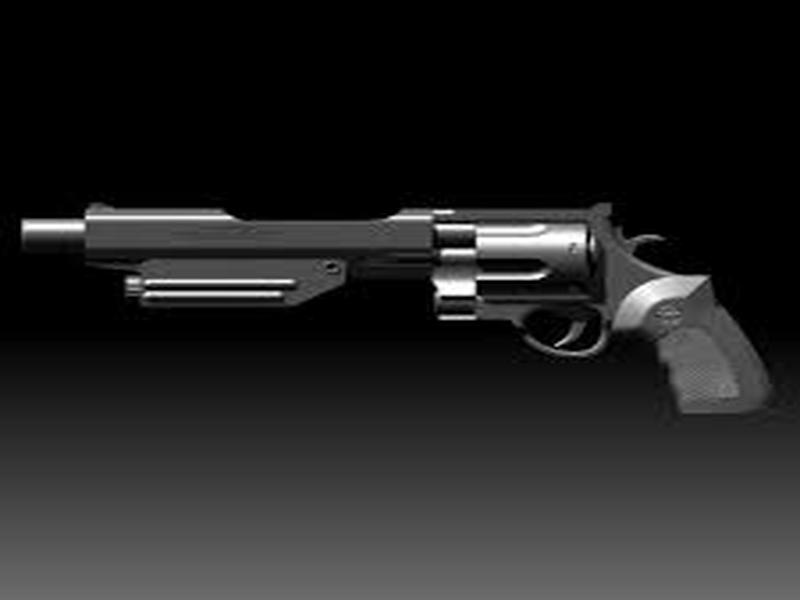gun: (10, 200, 781, 416)
